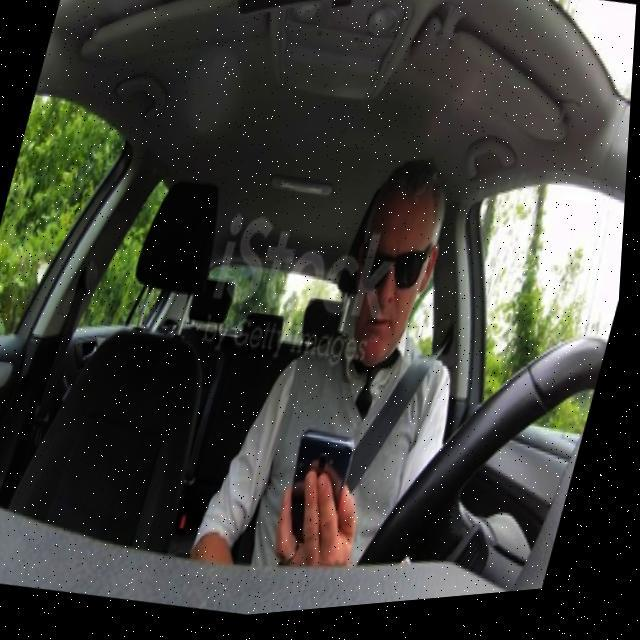PhoneCall: (282, 433, 366, 555)
